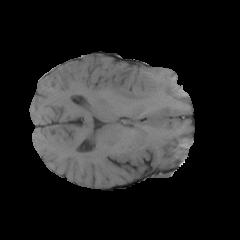glioma: (110, 66, 157, 101)
